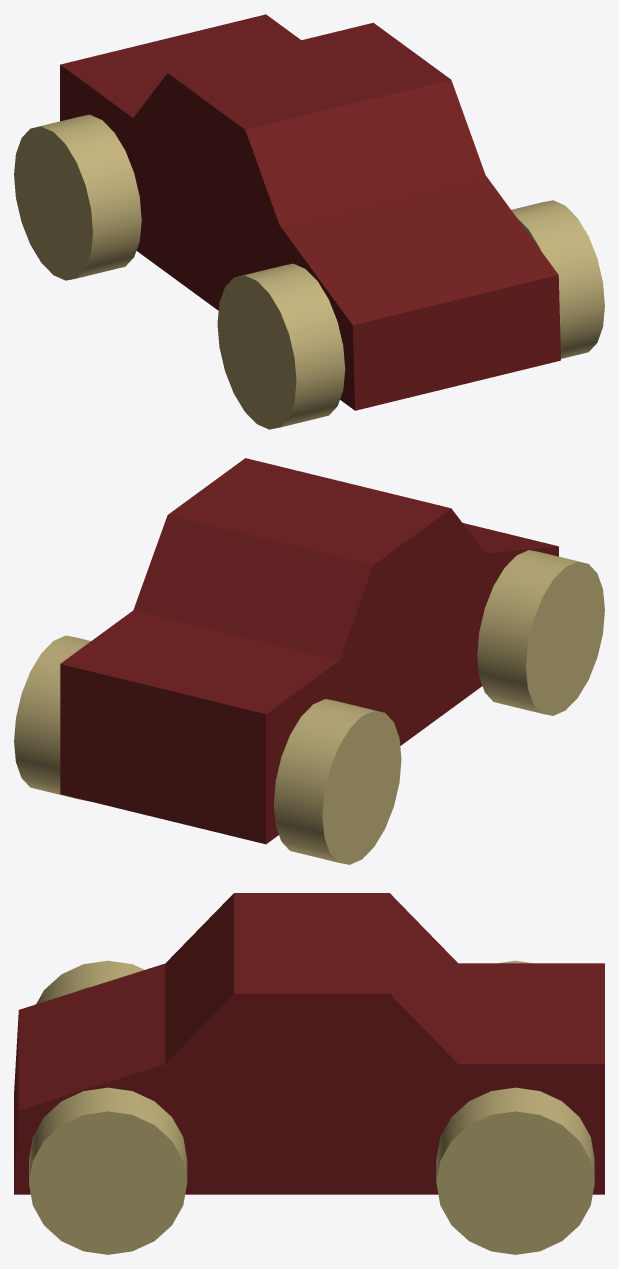
Rendered from Wood_Toy_Car.fbx.
3 views of the same model, one above another, from view 1: azimuth 30°, elevation 25°; view 2: azimuth 150°, elevation 25°; view 3: azimuth 270°, elevation 25° (orthographic).
Visible parts, largest first — view 1: pCylinder7; view 2: pCylinder7; view 3: pCylinder7.
Part boxes in pixels (x1,y1,x2,y2): pCylinder7: (14,14,604,429); pCylinder7: (14,458,604,864); pCylinder7: (14,893,604,1254).
Size of the model in its own units: 0.8072 by 0.5895 by 1.34.
